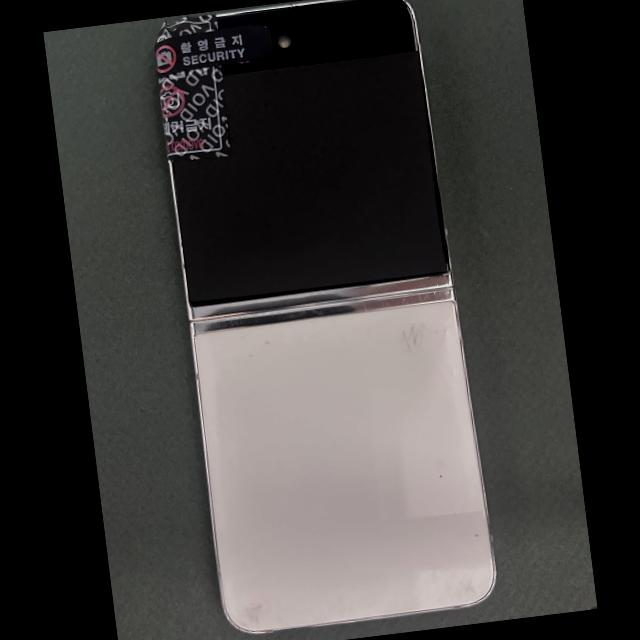phone: (156, 0, 497, 633)
sticker: (158, 67, 230, 164), (154, 23, 273, 77)
